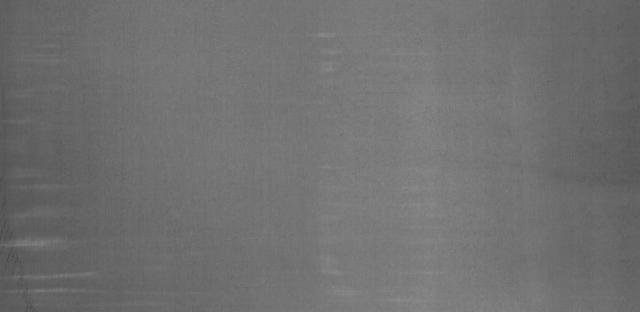waist_folding: (11, 19, 449, 298)
